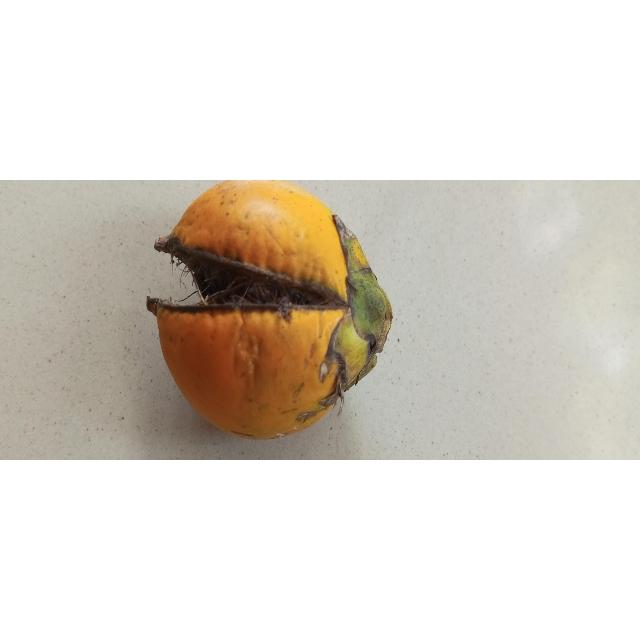damaged: (145, 180, 392, 442), (154, 180, 393, 388)
